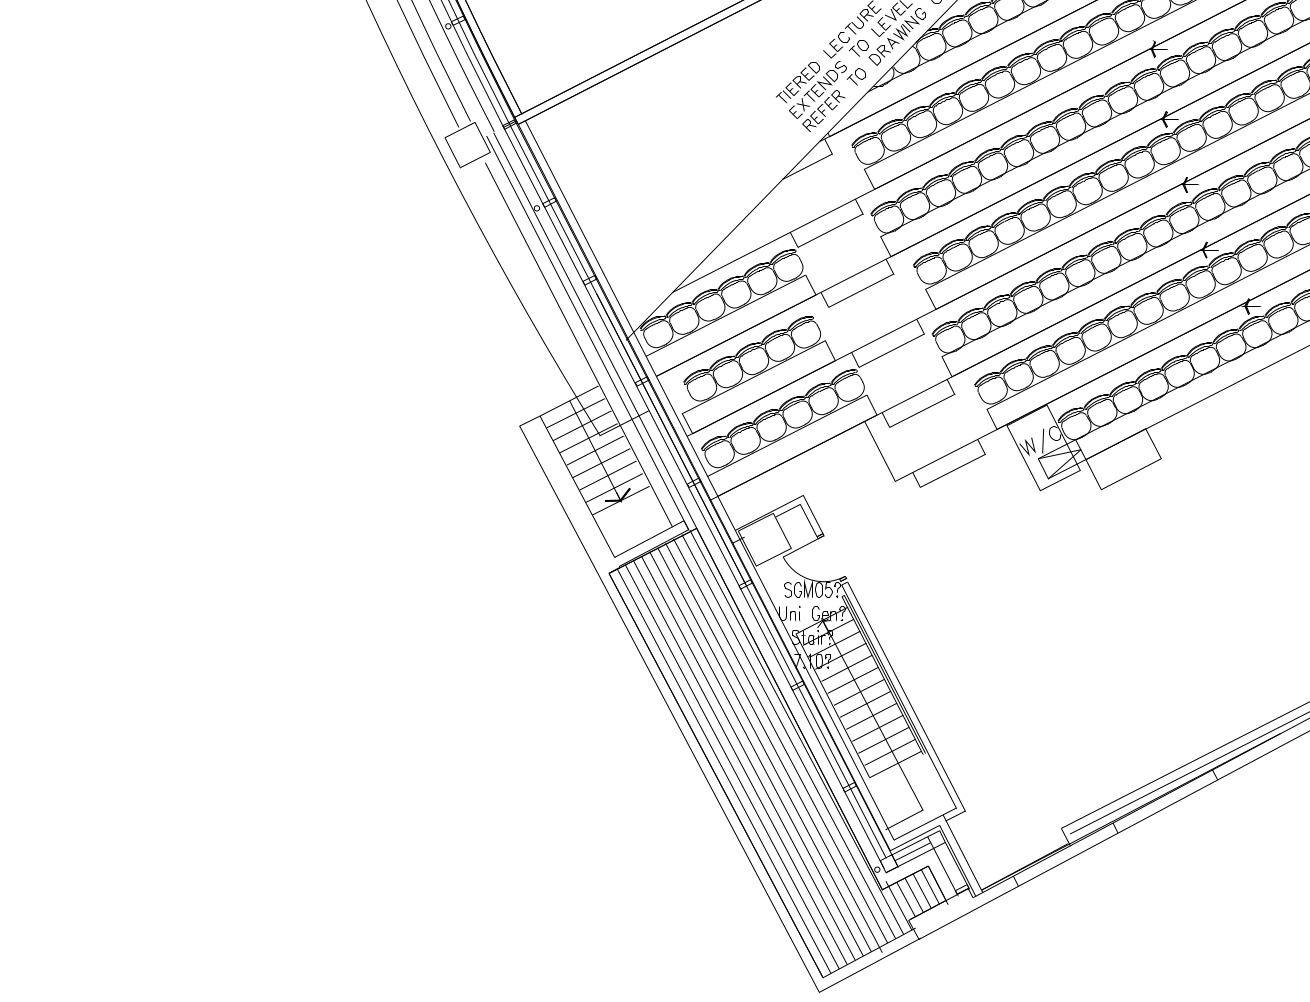door: (781, 529, 849, 594)
